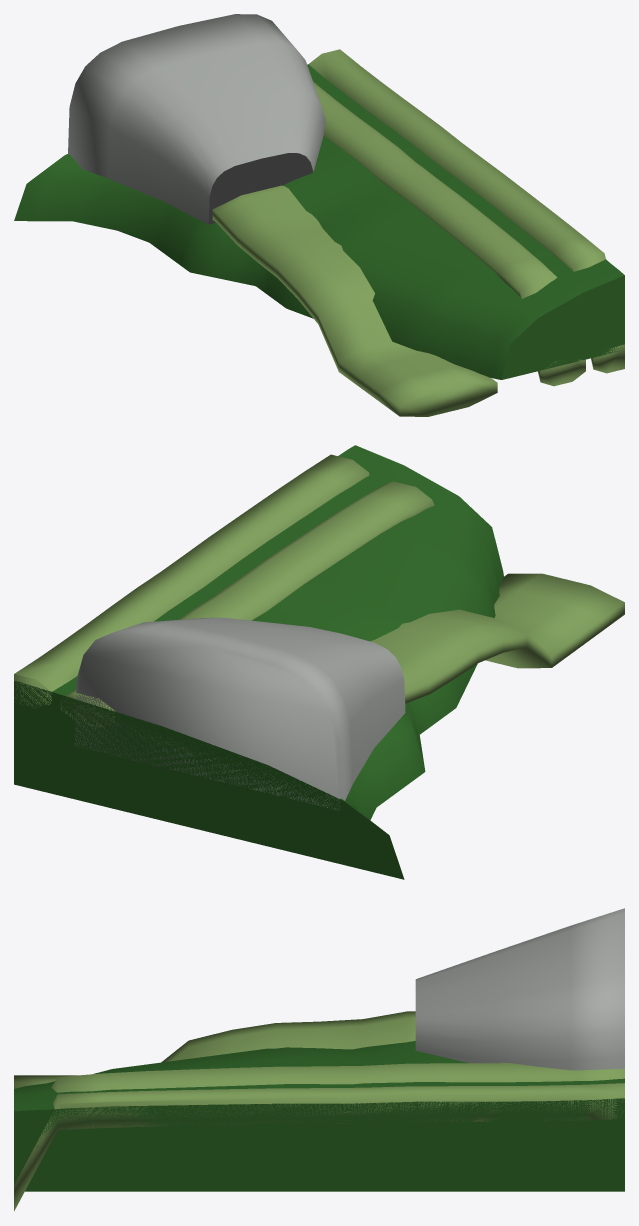
Rendered from newshj-229.glb.
3 views of the same model, one above another, from view 1: azimuth 30°, elevation 25°; view 2: azimuth 150°, elevation 25°; view 3: azimuth 270°, elevation 25° (orthographic). The views are drawn at different scales.
Parts seen in each view (by area): view 1: newshj-229; view 2: newshj-229; view 3: newshj-229.
Part boxes in pixels (x1=…): newshj-229: x1=14, y1=14, x2=624, y2=416; newshj-229: x1=14, y1=445, x2=624, y2=879; newshj-229: x1=14, y1=908, x2=624, y2=1211.
Size of the model in its own units: 1.54 by 0.7854 by 2.33.
